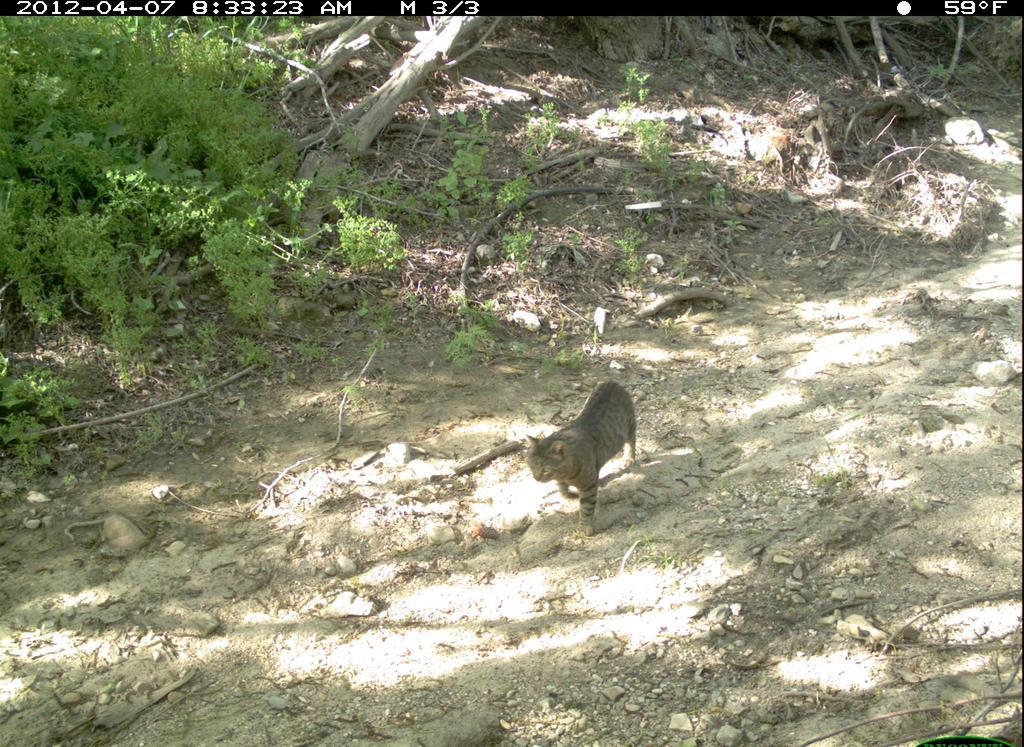cat: (506, 358, 653, 552)
